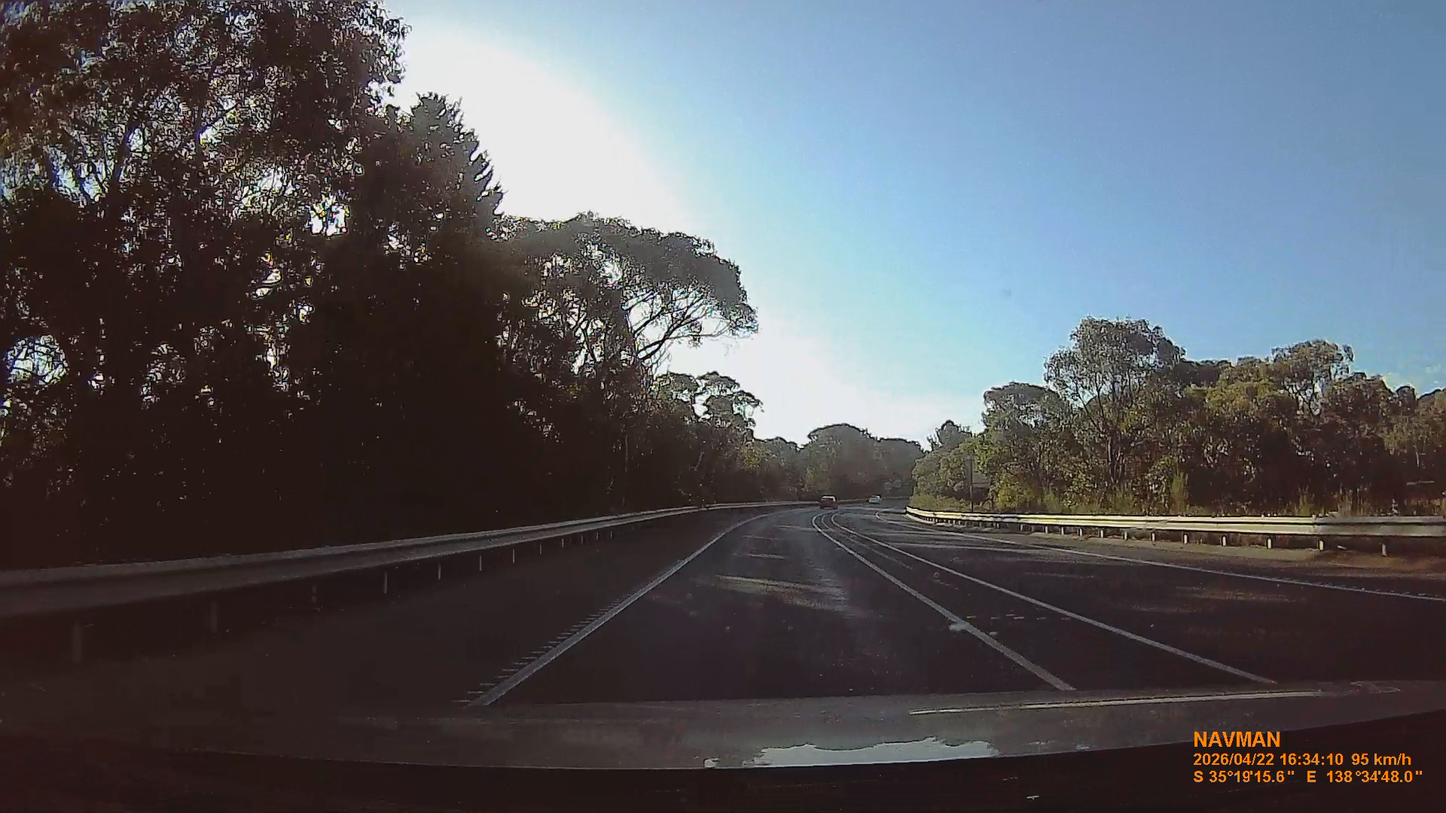road barriers: (0, 508, 707, 619), (907, 508, 1445, 537)
